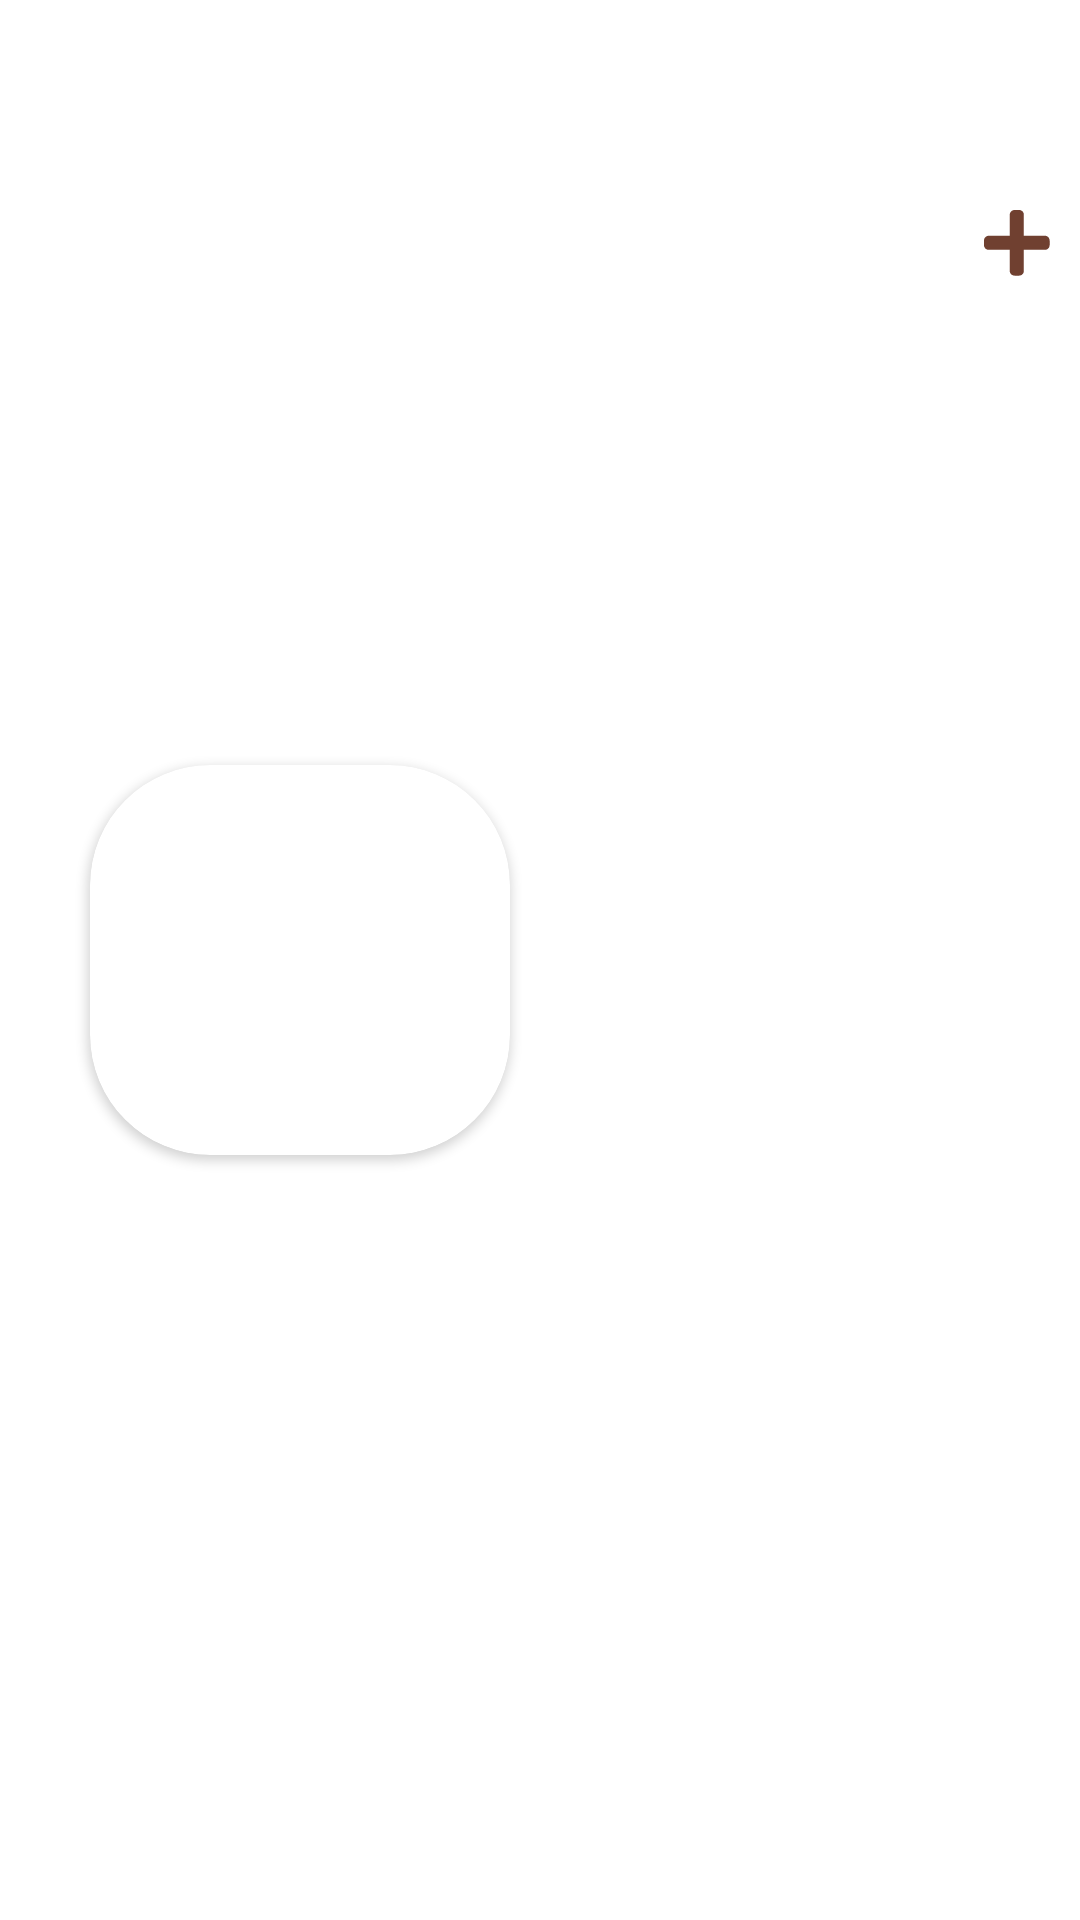

Locate icon controls on the screen. Image size 1080*1920, boxes as (x1, y1, x2, y2).
add: (984, 210, 1050, 276)
